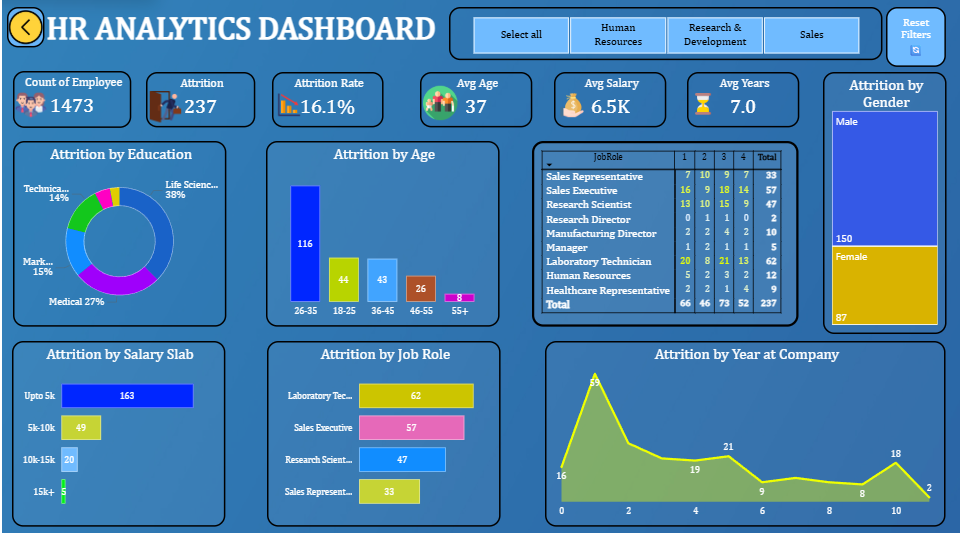

Layout of this report page (visuals, bound fields, positions):
{"tool":"powerbi","page":{"name":"Detailed","canvas":[1280,720],"ordinal":1},"visuals":[{"type":"card","title":"Count of Employee","fields":{"Values":["CountNonNull(HR_Analytics_2.EmpID)"]},"box":[14.3,94.2,158.3,75.7],"z":0},{"type":"card","title":"Attrition","fields":{"Values":["Sum(HR_Analytics_2.AttritionCount)"]},"box":[191.8,95.6,145.9,74.3],"z":1000},{"type":"card","title":"Attrition Rate","fields":{"Values":["HR_Analytics_2.AttritionRate"]},"box":[361.1,95.6,148.6,74.3],"z":2000},{"type":"card","title":"Avg Age","fields":{"Values":["Avg(HR_Analytics_2.Age)"]},"box":[557.9,95.6,150,74.3],"z":3000},{"type":"card","title":"Avg Salary","fields":{"Values":["Avg(HR_Analytics_2.MonthlyIncome)"]},"box":[736.9,95.6,150,74.3],"z":4000},{"type":"card","title":"Avg Years","fields":{"Values":["Avg(HR_Analytics_2.YearsAtCompany)"]},"box":[914.4,95.6,150,74.3],"z":5000},{"type":"donutChart","title":"Attrition by Education","fields":{"Category":["HR_Analytics_2.EducationField"],"Y":["Sum(HR_Analytics_2.AttritionCount)"]},"box":[14.3,187.8,284.9,247.7],"z":6000},{"type":"columnChart","title":"Attrition by Age","fields":{"Category":["HR_Analytics_2.AgeGroup"],"Y":["Sum(HR_Analytics_2.AttritionCount)"]},"box":[352.9,187.8,312.4,247.7],"z":7000},{"type":"pivotTable","fields":{"Rows":["HR_Analytics_2.JobRole"],"Values":["Sum(HR_Analytics_2.AttritionCount)"],"Columns":["HR_Analytics_2.JobSatisfaction"]},"box":[708,187.8,356.5,247.7],"z":8000},{"type":"barChart","title":"Attrition by Salary Slab","fields":{"Category":["HR_Analytics_2.SalarySlab"],"Y":["Sum(HR_Analytics_2.AttritionCount)"]},"box":[14,455,284.9,247.7],"z":9000},{"type":"barChart","title":"Attrition by Job Role","fields":{"Category":["HR_Analytics_2.JobRole"],"Y":["Sum(HR_Analytics_2.AttritionCount)"]},"box":[354,455,312.4,247.7],"z":10000},{"type":"areaChart","title":"Attrition by Year at Company","fields":{"Category":["HR_Analytics_2.YearsAtCompany"],"Y":["Sum(HR_Analytics_2.AttritionCount)"]},"box":[725.6,455,535.4,247.7],"z":11000},{"type":"treemap","title":"Attrition by Gender","fields":{"Group":["HR_Analytics_2.Gender"],"Values":["Sum(HR_Analytics_2.AttritionCount)"]},"box":[1096.1,95.6,165.2,349.6],"z":12000},{"type":"slicer","fields":{"Values":["HR_Analytics_2.Department"]},"box":[596.5,9.2,579.4,71],"z":13000},{"type":"textbox","box":[49.9,10.5,540,65.7],"z":14000},{"type":"actionButton","box":[1181.2,9.2,80.1,80.1],"z":15000},{"type":"image","box":[17.6,118.6,42,42],"z":16000},{"type":"image","box":[745.5,117.3,31.5,46],"z":17000},{"type":"image","box":[562.9,113.3,46,47.3],"z":18000},{"type":"image","box":[196.3,121.2,44.7,42],"z":19000},{"type":"image","box":[365.8,118.6,35.5,42],"z":20000},{"type":"image","box":[915,123.8,43.4,28.9],"z":21000},{"type":"image","box":[6.6,9.2,49.9,53.9],"z":22000}]}

Visuals, with their boxes in screenshot pixels (x1, y1, x2, y2), scaled from the page's 1280x720 canvas onto the 962x533 screenshot:
"Count of Employee" card: rect(11, 70, 130, 126)
"Attrition" card: rect(144, 71, 254, 126)
"Attrition Rate" card: rect(271, 71, 383, 126)
"Avg Age" card: rect(419, 71, 532, 126)
"Avg Salary" card: rect(554, 71, 667, 126)
"Avg Years" card: rect(687, 71, 800, 126)
"Attrition by Education" donutChart: rect(11, 139, 225, 322)
"Attrition by Age" columnChart: rect(265, 139, 500, 322)
pivotTable - HR_Analytics_2.JobRole x Sum(HR_Analytics_2.AttritionCount): rect(532, 139, 800, 322)
"Attrition by Salary Slab" barChart: rect(11, 337, 225, 520)
"Attrition by Job Role" barChart: rect(266, 337, 501, 520)
"Attrition by Year at Company" areaChart: rect(545, 337, 948, 520)
"Attrition by Gender" treemap: rect(824, 71, 948, 330)
slicer - HR_Analytics_2.Department: rect(448, 7, 884, 59)
textbox: rect(38, 8, 443, 56)
actionButton: rect(888, 7, 948, 66)
image: rect(13, 88, 45, 119)
image: rect(560, 87, 584, 121)
image: rect(423, 84, 458, 119)
image: rect(148, 90, 181, 121)
image: rect(275, 88, 302, 119)
image: rect(688, 92, 720, 113)
image: rect(5, 7, 42, 47)
